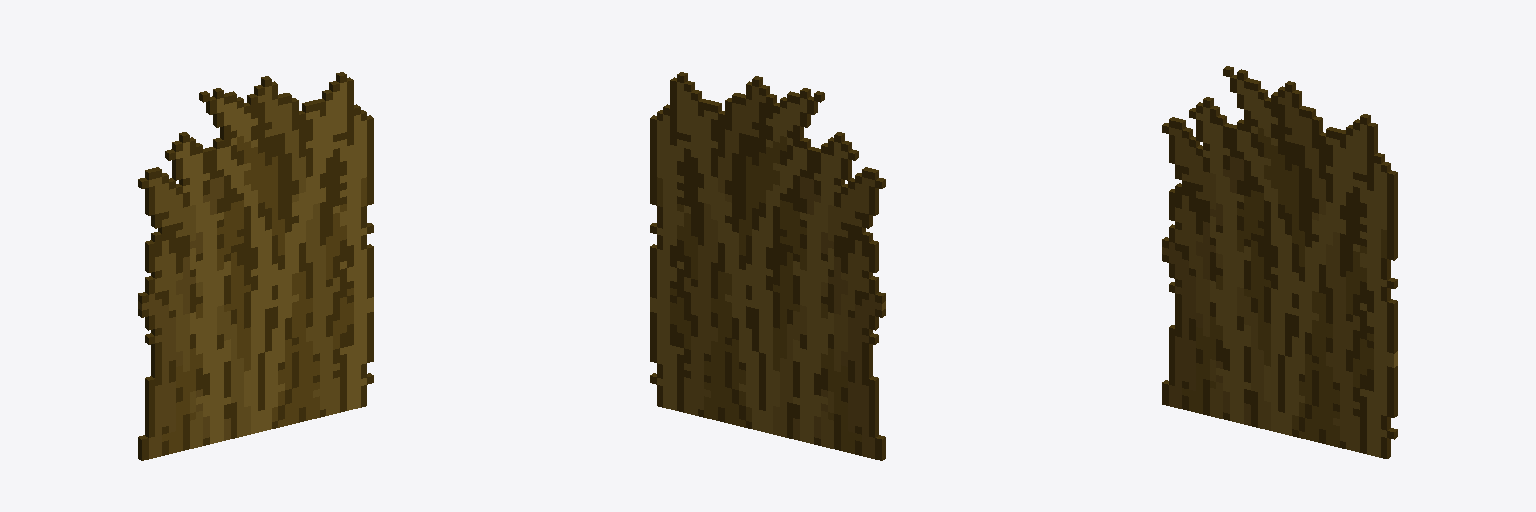
3 renders of one model, left to right at view 1: azimuth 30°, elevation 25°; view 2: azimuth 150°, elevation 25°; view 3: azimuth 330°, elevation 25°, orthographic.
Visible parts, largest first — view 1: wall_death; view 2: wall_death; view 3: wall_death.
Part boxes in pixels (bbox=[...]): wall_death: bbox=[138, 72, 373, 460]; wall_death: bbox=[650, 72, 885, 460]; wall_death: bbox=[1162, 66, 1397, 458].
Size of the model in its own units: 34 by 49 by 1.
1 materials, 1 textured.